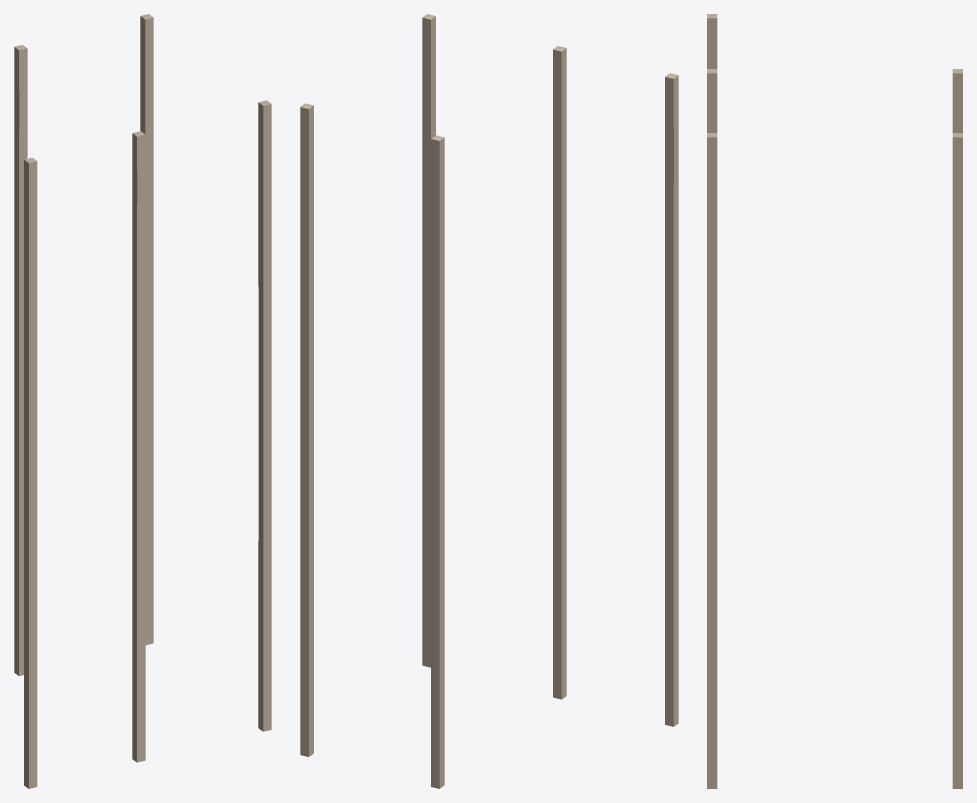
Rendered from porch_posts.glb.
3 views of the same model, side by side, from view 1: azimuth 30°, elevation 25°; view 2: azimuth 150°, elevation 25°; view 3: azimuth 270°, elevation 25° (orthographic). The views are drawn at different scales.
Visible parts, largest first — view 1: porch_posts_wood; view 2: porch_posts_wood; view 3: porch_posts_wood.
Boxes of the visible parts, box(x1,y1,x2,y2) form: porch_posts_wood: box(14, 14, 271, 788); porch_posts_wood: box(300, 14, 678, 788); porch_posts_wood: box(707, 14, 962, 788).
Bounding box in the file's own units: 4.04 × 9.95 × 3.54.
